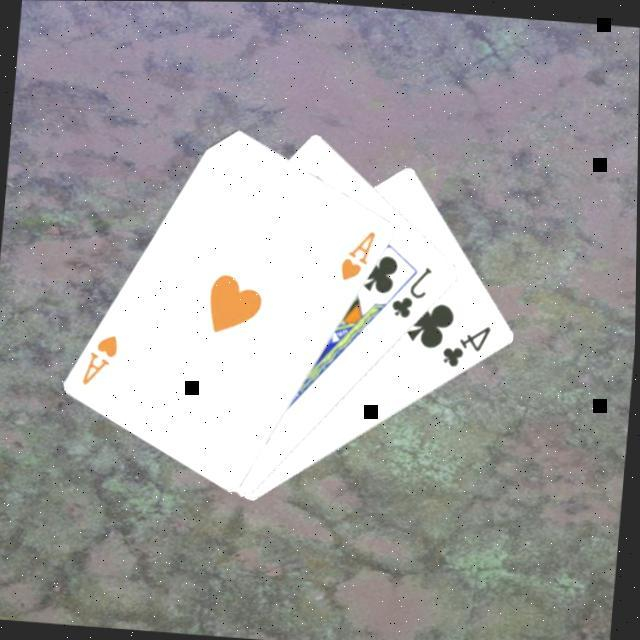4C: (440, 319, 498, 373)
AH: (80, 329, 125, 391), (339, 225, 383, 286)
JC: (389, 260, 438, 323)
